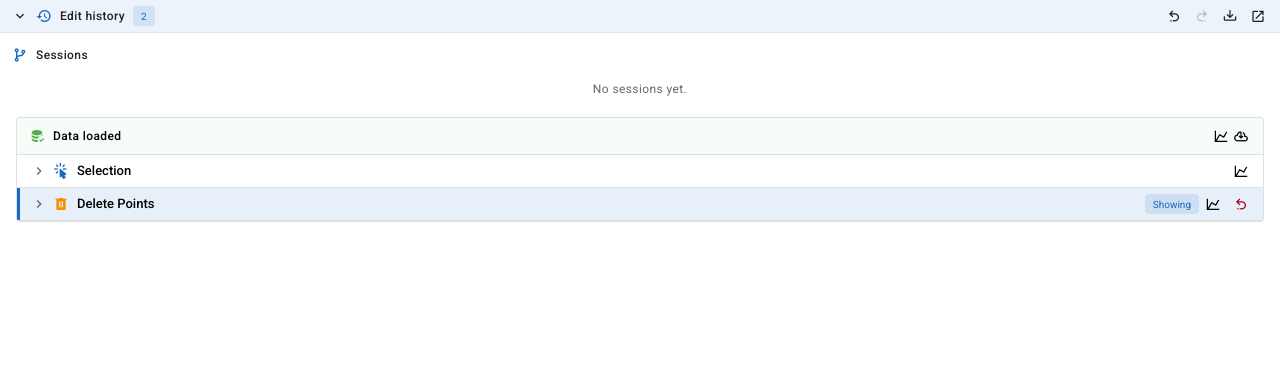
Test case: EditHistory.vue actions › row click does not swallow its buttons › expanding the args drawer does not step back
Click the 1st button with class "edit-history__expand" at (39, 171), box [29,161,49,181]
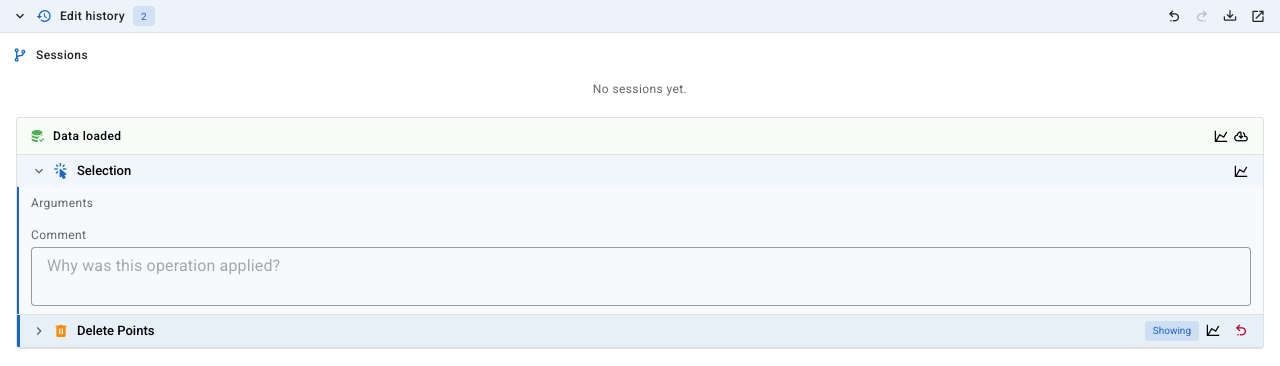
expect the text "Arguments" is shown: met, box [31,196,93,210]
